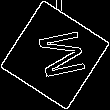M_W: (25, 27, 85, 83)
